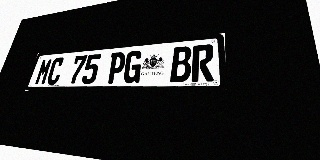5: (81, 54, 101, 84)
7: (67, 55, 87, 85)
B: (170, 46, 192, 82)
C: (45, 57, 65, 85)
G: (122, 50, 143, 83)
M: (34, 58, 53, 85)
P: (106, 52, 127, 84)
R: (191, 44, 214, 82)
